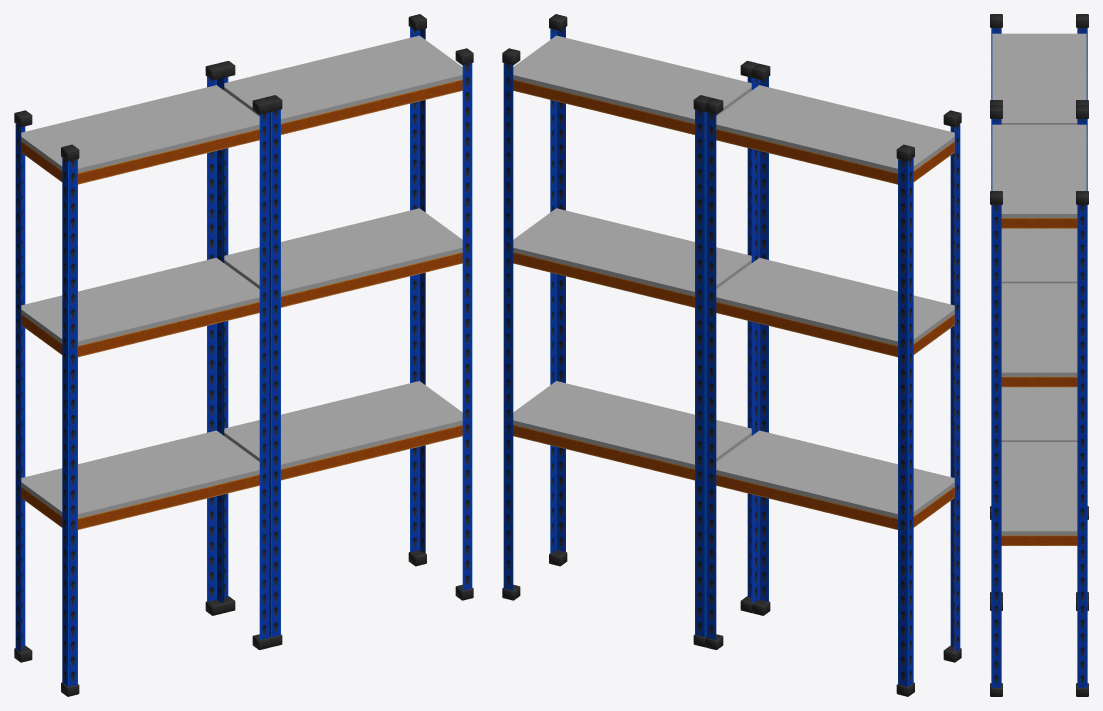
File: shelf_1m.dae
The picture shows the model from 3 angles, left to right: view 1: azimuth 30°, elevation 25°; view 2: azimuth 150°, elevation 25°; view 3: azimuth 270°, elevation 25°; orthographic projection. The views are drawn at different scales.
Visible parts, largest first — view 1: Cupboard_2_2_Shelves; view 2: Cupboard_2_2_Shelves; view 3: Cupboard_2_2_Shelves.
Part boxes in pixels (bbox=[...]): Cupboard_2_2_Shelves: bbox=[14, 14, 473, 696]; Cupboard_2_2_Shelves: bbox=[502, 14, 961, 696]; Cupboard_2_2_Shelves: bbox=[990, 14, 1088, 696].
Size of the model in its own units: 2.46 by 0.5641 by 3.16.
2 materials, 1 textured.
